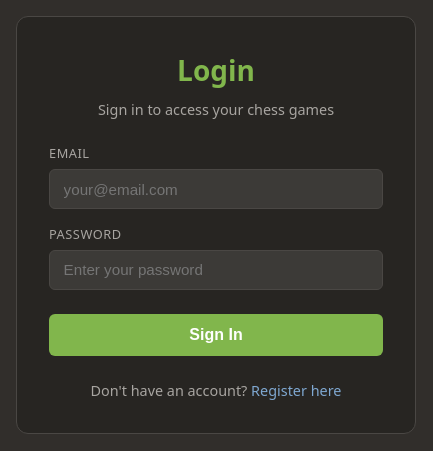
Test: LoginPage successful login › shows signing in... and disables button while loading
The image size is (433, 451).
Type "test@test.com" into the field labelled "Email" at [216, 189], box [49,169,383,209]
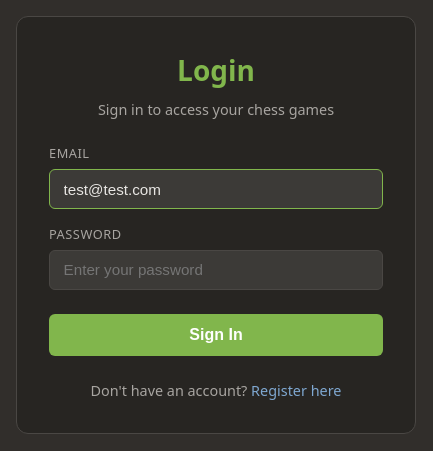
Type "Password1!" into the password field labelled "Password" at [216, 270], box [49,250,383,290]
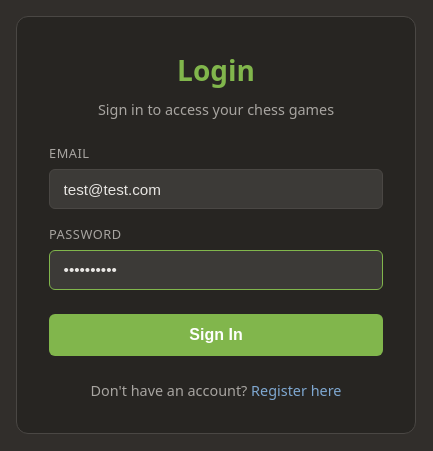
Click the button "Sign In" at [216, 335], box [49,314,383,356]
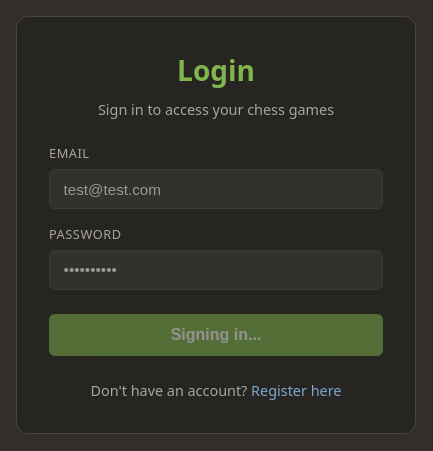
Now the button "Signing in..." is disabled, box [49,314,383,356]
